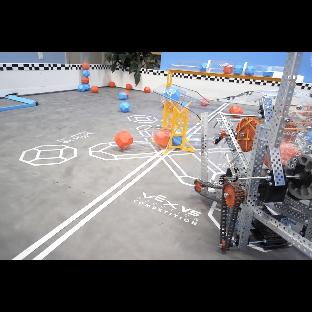Robot: (194, 52, 312, 259), (194, 52, 312, 258)
